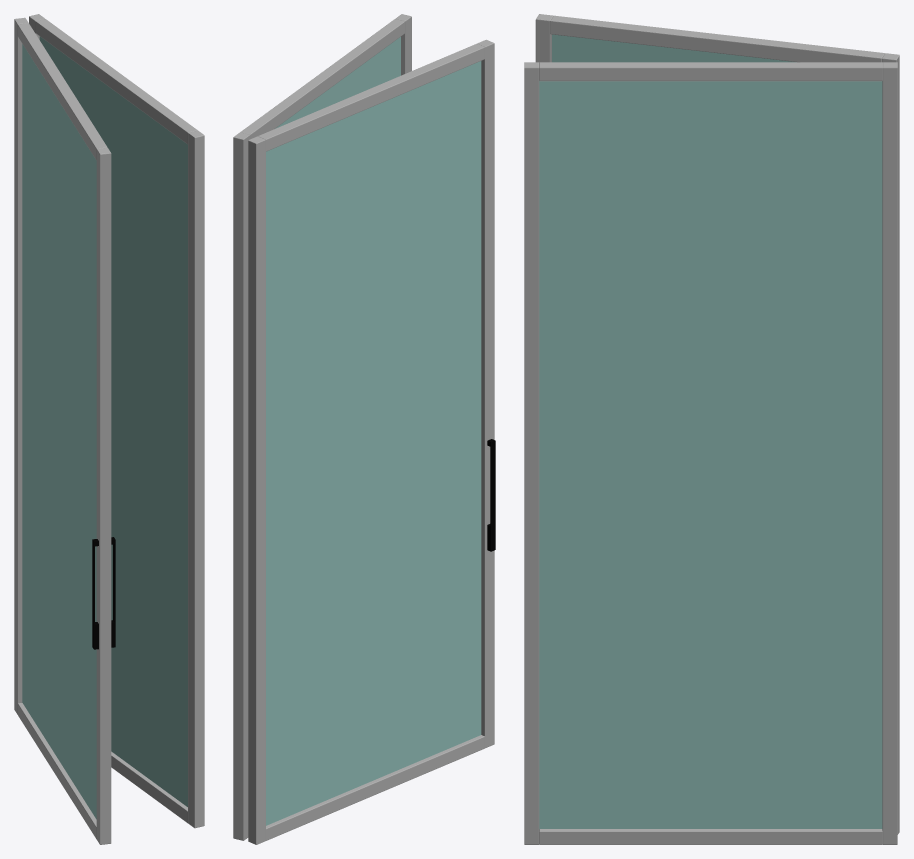
Rendered from DOOR_porch_2.FBX.
3 renders of one model, left to right at view 1: azimuth 30°, elevation 25°; view 2: azimuth 150°, elevation 25°; view 3: azimuth 270°, elevation 25°, orthographic. The views are drawn at different scales.
Visible parts, largest first — view 1: DOOR_porch_2; view 2: DOOR_porch_2; view 3: DOOR_porch_2.
Part boxes in pixels (x1,y1,x2,y2): DOOR_porch_2: (14,14,204,844); DOOR_porch_2: (233,14,495,844); DOOR_porch_2: (524,14,899,844).
Bounding box in the file's own units: 44.41 × 126 × 289.
